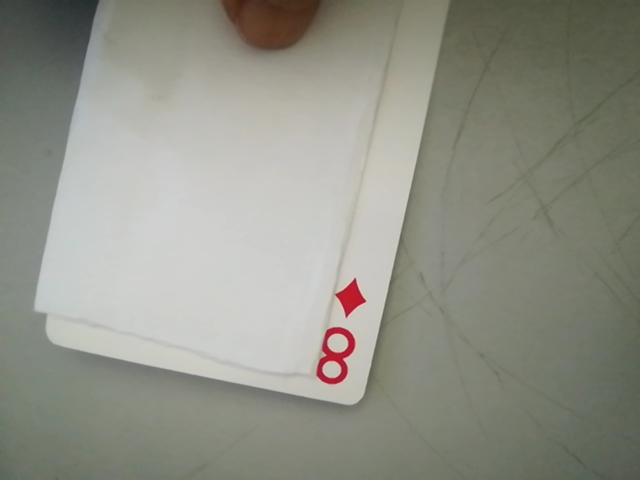fk 8: (308, 274, 374, 397)
